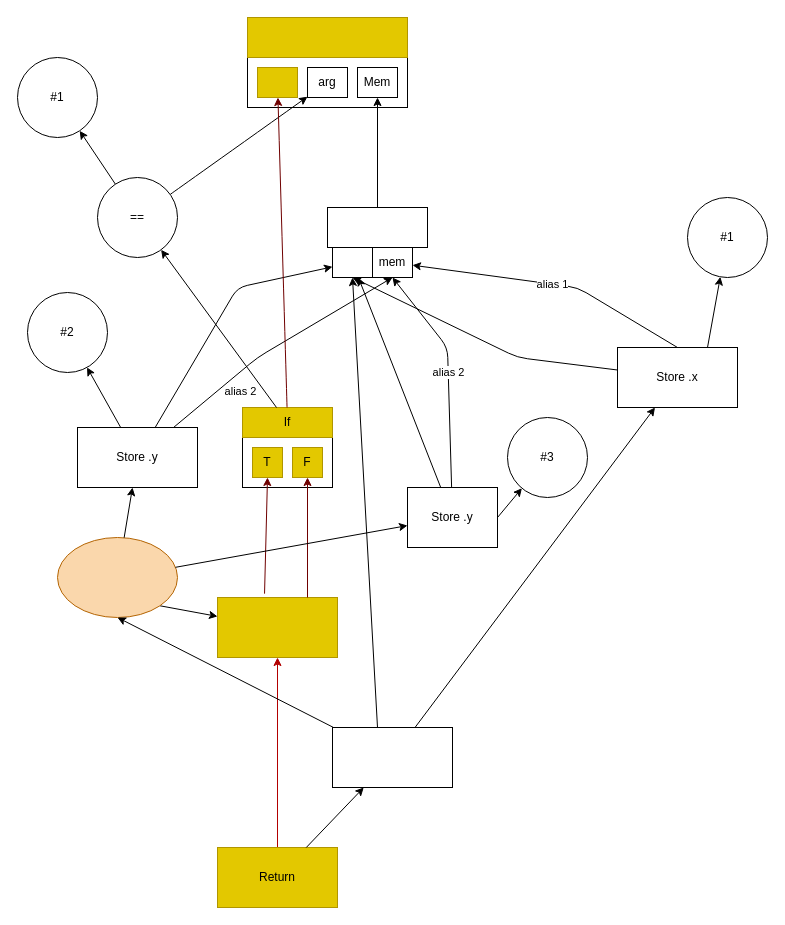
This 785x925 diagram has some shape labels left out. The centre of each missing label's shape, as x and y in pixels:
"$ctrl" goes at (x=277, y=82).
"Merge Mem" goes at (x=392, y=757).
"New Vector2D" goes at (x=377, y=227).
"phi" goes at (x=117, y=577).
"ptr" goes at (x=352, y=262).
"Region" goes at (x=277, y=627).
"Start" goes at (x=327, y=37).
